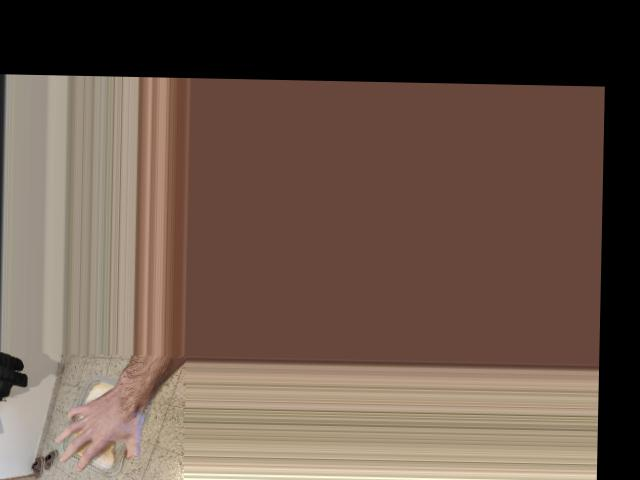cheese: (56, 379, 150, 474)
